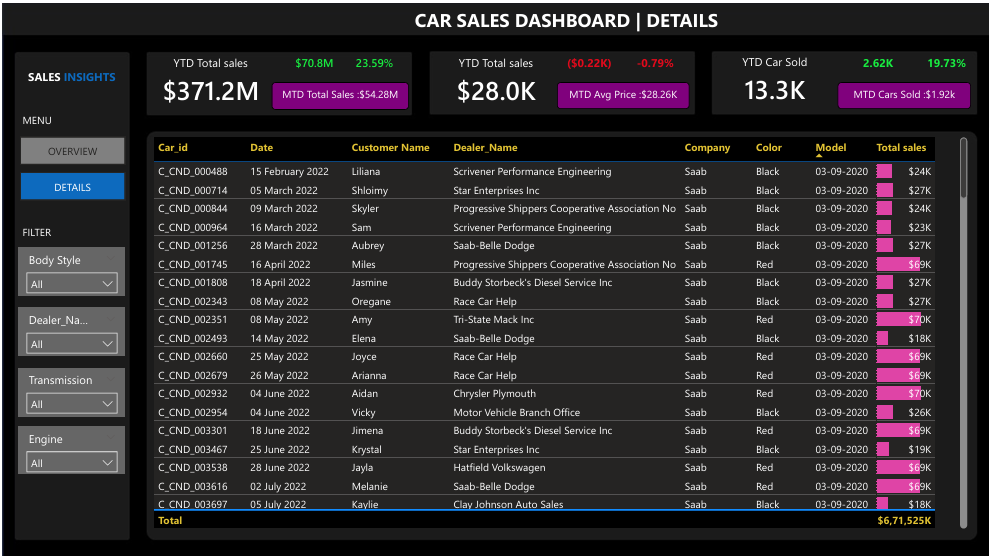

What the dashboard file says about the page in this screenshot:
{"tool":"powerbi","page":{"name":"DETAILS","canvas":[1280,720],"ordinal":1},"visuals":[{"type":"card","title":"YTD Total sales","fields":{"Values":["car_data.YTD Total Sales"]},"box":[191.5,65.5,157.9,72.2],"z":0},{"type":"card","fields":{"Values":["car_data.Sales Difference"]},"box":[349.4,57.1,110.9,45.4],"z":1000},{"type":"card","fields":{"Values":["car_data.YoY Sales Growth"]},"box":[438.4,57.1,89,45.4],"z":2000},{"type":"card","fields":{"Values":["car_data.MTD KPI"]},"box":[349.4,102.5,178.1,35.3],"z":3000},{"type":"card","title":"YTD Total sales","fields":{"Values":["Calendar Table.YTD Avg Price"]},"box":[561,65.5,157.9,72.2],"z":4000},{"type":"card","fields":{"Values":["car_data.Avg Price Diff"]},"box":[705.5,57.1,110.9,45.4],"z":5000},{"type":"card","fields":{"Values":["car_data.YoY Avg Price Growth"]},"box":[791.2,57.1,110.9,45.4],"z":6000},{"type":"card","fields":{"Values":["car_data.MTD Avg Price KPI"]},"box":[718.6,102,172.9,35.4],"z":7000},{"type":"card","title":"YTD Car Sold","fields":{"Values":["car_data.YTD Cars Sold"]},"box":[922.7,65.2,157.3,72.3],"z":8000},{"type":"card","fields":{"Values":["car_data.Cars Sold Diff"]},"box":[1080,56.7,110.6,45.4],"z":9000},{"type":"card","fields":{"Values":["car_data.YoY Car Sold Growth"]},"box":[1169.3,56.7,110.6,45.4],"z":10000},{"type":"card","fields":{"Values":["car_data.MTD Cars Sold KPI"]},"box":[1082.8,102,172.9,35.4],"z":11000},{"type":"textbox","box":[460.6,0,541.4,42.5],"z":12000},{"type":"slicer","fields":{"Values":["car_data.Body Style"]},"box":[21.3,317.5,137.5,62.4],"z":13000},{"type":"slicer","fields":{"Values":["car_data.Dealer_Name","car_data.Dealer_Region"]},"box":[21.3,395.4,137.5,62.4],"z":14000},{"type":"slicer","fields":{"Values":["car_data.Transmission"]},"box":[21.3,473.4,137.5,62.4],"z":15000},{"type":"slicer","fields":{"Values":["car_data.Engine"]},"box":[21.3,548.5,137.5,62.4],"z":16000},{"type":"textbox","box":[21.3,282,76.5,35.4],"z":17000},{"type":"tableEx","fields":{"Values":["car_data.Car_id","car_data.Date","car_data.Customer Name","car_data.Dealer_Name","car_data.Company","car_data.Color","car_data.Model","car_data.Total sales"]},"box":[191.3,168.7,1064.4,517.3],"z":18000},{"type":"textbox","box":[21.3,79.4,137.5,41.1],"z":19000},{"type":"textbox","box":[21.3,137.5,76.5,35.4],"z":20000},{"type":"pageNavigator","box":[22.7,172.9,136.1,82.2],"z":21000}]}

Visuals, with their boxes in screenshot pixels (x1, y1, x2, y2), scaled from the page's 1280x720 canvas onto the 993x556 screenshot:
"YTD Total sales" card: detection(149, 51, 271, 106)
card - car_data.Sales Difference: detection(271, 44, 357, 79)
card - car_data.YoY Sales Growth: detection(340, 44, 409, 79)
card - car_data.MTD KPI: detection(271, 79, 409, 106)
"YTD Total sales" card: detection(435, 51, 558, 106)
card - car_data.Avg Price Diff: detection(547, 44, 633, 79)
card - car_data.YoY Avg Price Growth: detection(614, 44, 700, 79)
card - car_data.MTD Avg Price KPI: detection(557, 79, 692, 106)
"YTD Car Sold" card: detection(716, 50, 838, 106)
card - car_data.Cars Sold Diff: detection(838, 44, 924, 79)
card - car_data.YoY Car Sold Growth: detection(907, 44, 992, 79)
card - car_data.MTD Cars Sold KPI: detection(840, 79, 974, 106)
textbox: detection(357, 0, 777, 33)
slicer - car_data.Body Style: detection(17, 245, 123, 293)
slicer - car_data.Dealer_Name x car_data.Dealer_Region: detection(17, 305, 123, 354)
slicer - car_data.Transmission: detection(17, 366, 123, 414)
slicer - car_data.Engine: detection(17, 424, 123, 472)
textbox: detection(17, 218, 76, 245)
tableEx - car_data.Car_id x car_data.Date: detection(148, 130, 974, 530)
textbox: detection(17, 61, 123, 93)
textbox: detection(17, 106, 76, 134)
pageNavigator: detection(18, 134, 123, 197)
